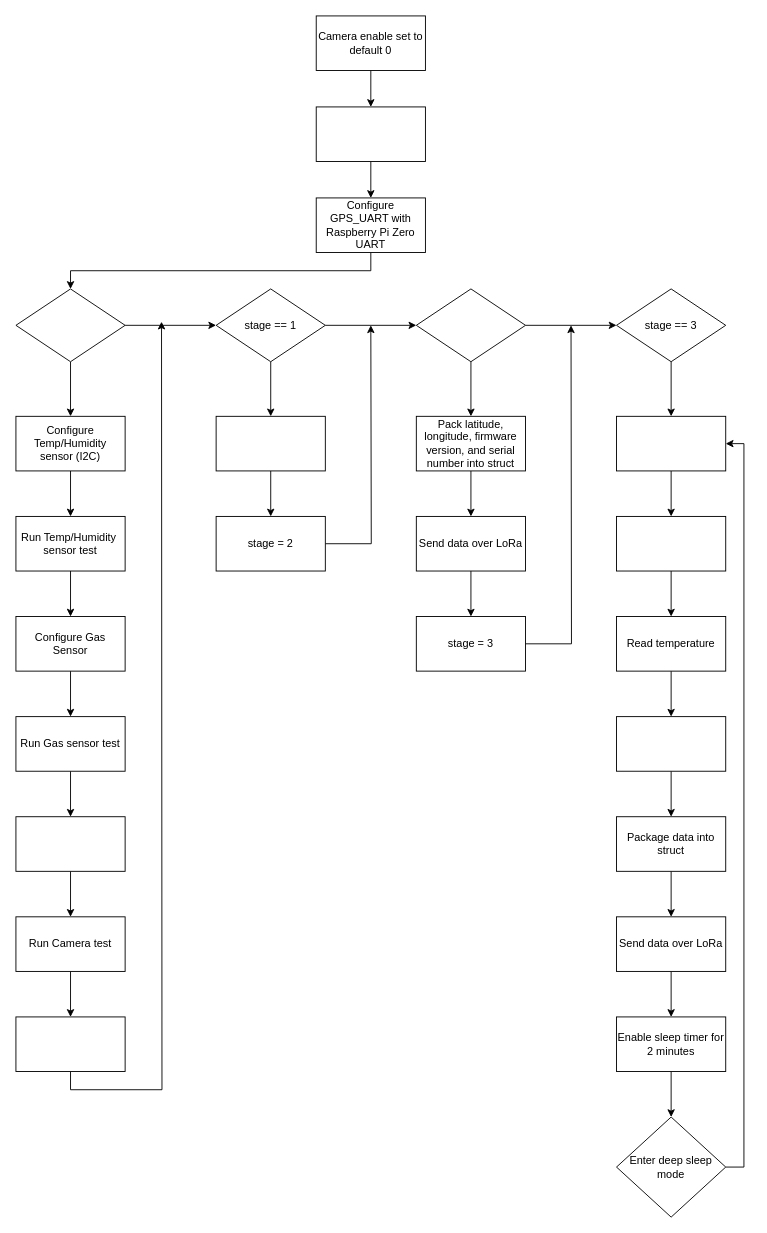
The diagram is 767 pixels wide and 1233 high, and some of its shapes have lost their labels. Each missing label, with the centre of its shape:
Configure Camera: (70,843)
Do post-processing with model: (671,543)
GPS enable set to 0: (370,134)
Read humidity: (671,743)
stage = 1: (70,1044)
stage == 0: (70,325)
stage == 2: (470,325)
Take picture using camera: (671,443)
Wait for GPS to obtain a fix: (270,443)
